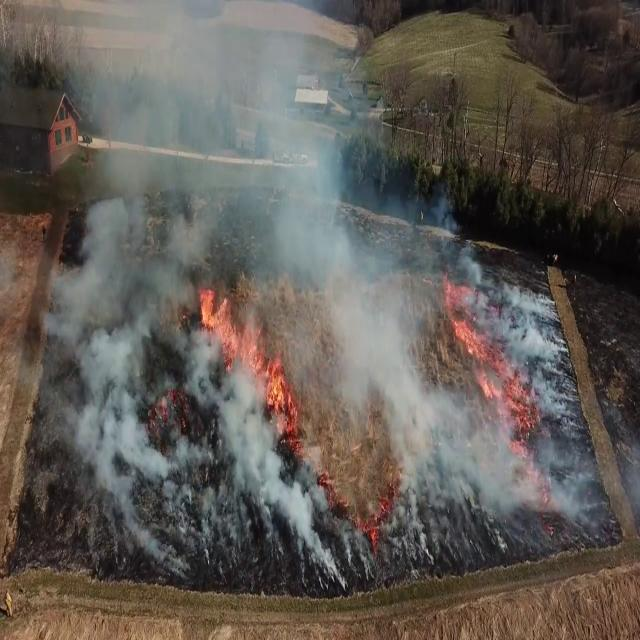Fire: (190, 273, 300, 438), (442, 266, 513, 418)
Smoke: (31, 2, 331, 503), (301, 204, 574, 536)
